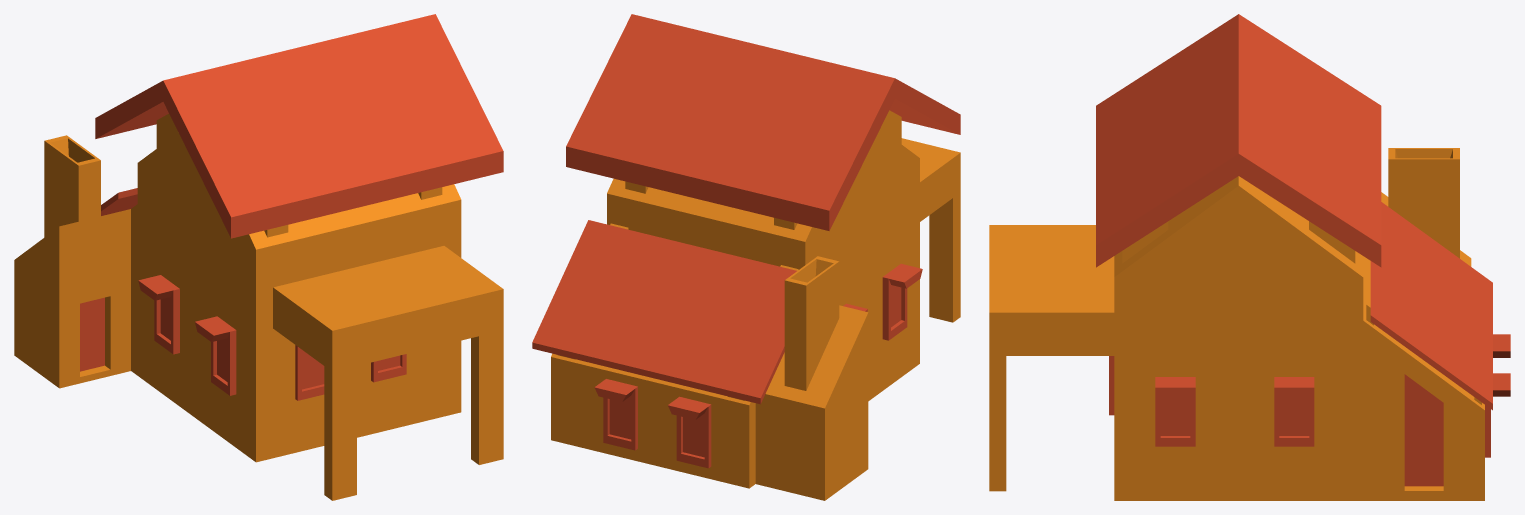
File: house1.obj
3 renders of one model, left to right at view 1: azimuth 30°, elevation 25°; view 2: azimuth 150°, elevation 25°; view 3: azimuth 270°, elevation 25°, orthographic. The views are drawn at different scales.
Parts seen in each view (by area): view 1: house2_Cube.016; view 2: house2_Cube.016; view 3: house2_Cube.016.
Boxes of the visible parts, x1=… form: house2_Cube.016: x1=14, y1=14, x2=503, y2=500; house2_Cube.016: x1=532, y1=14, x2=960, y2=500; house2_Cube.016: x1=989, y1=14, x2=1510, y2=500.
Bounding box in the file's own units: 7.56 × 8.07 × 10.46.
Materials: 1 (1 with a texture image).
